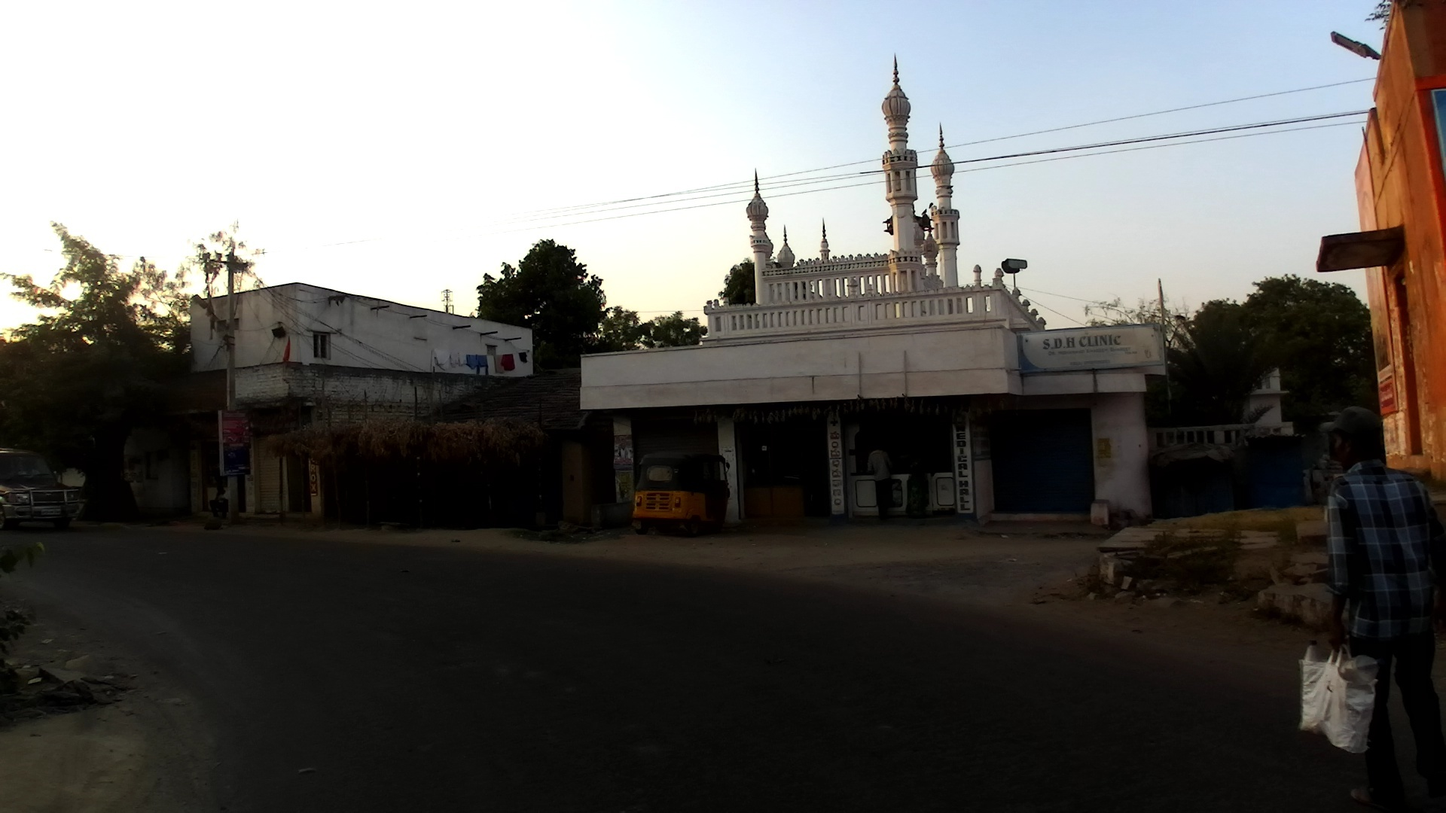autorickshaw: (628, 454, 733, 539)
car: (2, 448, 87, 531)
person: (1317, 404, 1446, 813), (862, 441, 900, 525), (907, 448, 938, 519)
truck: (1316, 1, 1446, 508)
